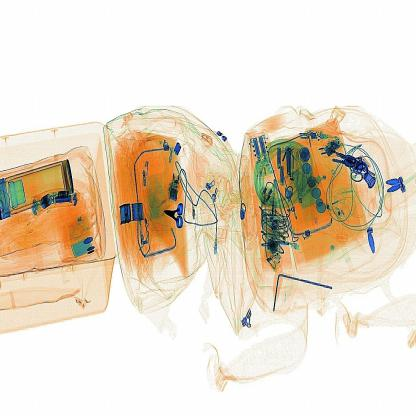gun: (157, 194, 198, 239)
